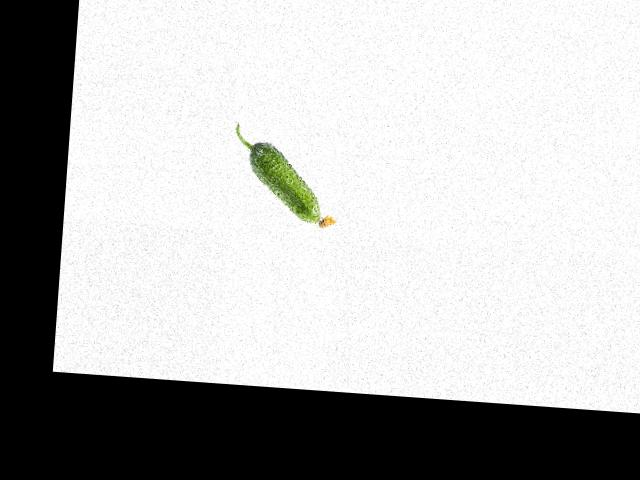cucumber: (229, 123, 343, 228)
